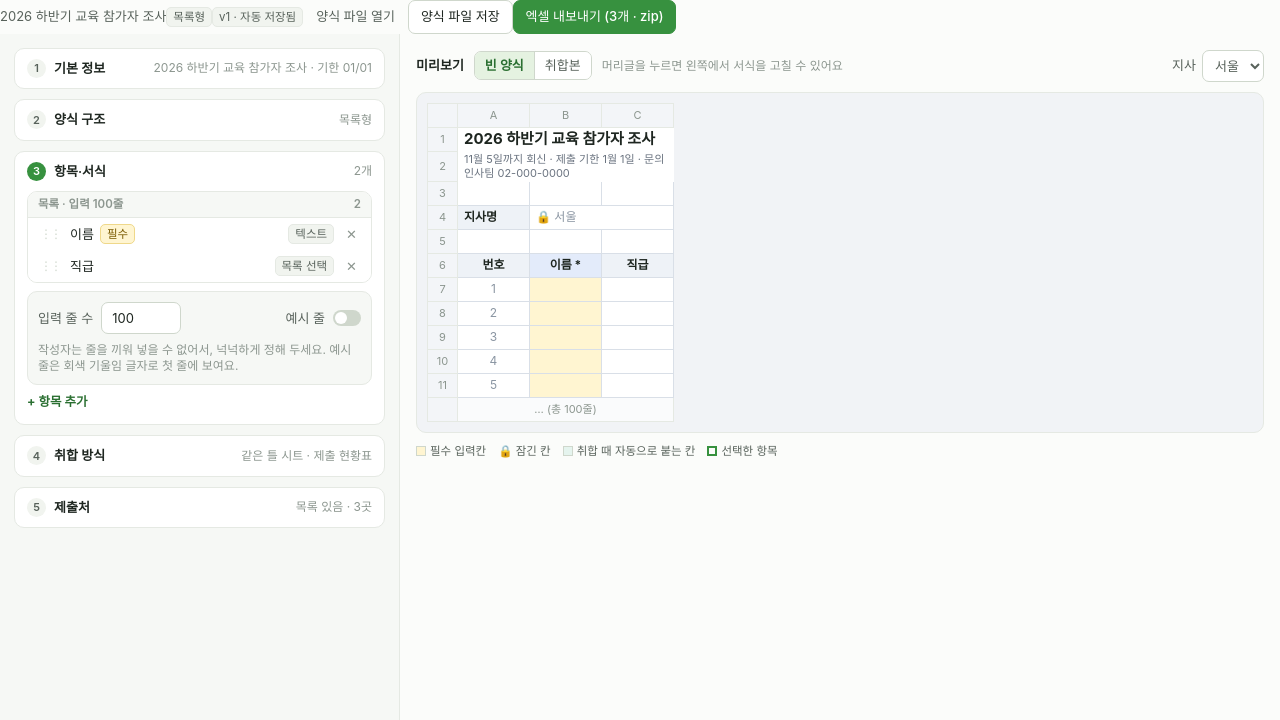
Test: 지난 기한이면 알리고 다시 고르게
Click the button "엑셀 내보내기 (3개 · zip)". click: coordinates (595, 17)
box: x1=513 y1=0 x2=676 y2=34
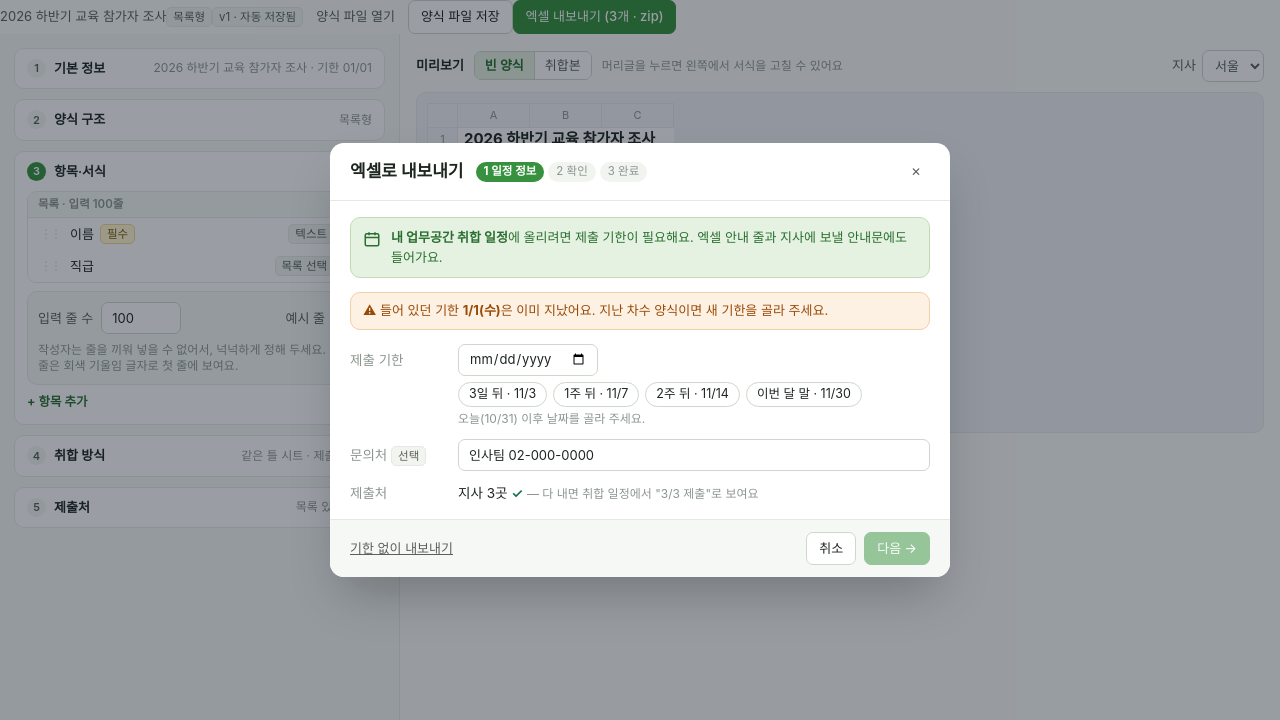
Expected: the message shows "이미 지났어요", x1=501 y1=302 x2=828 y2=318
